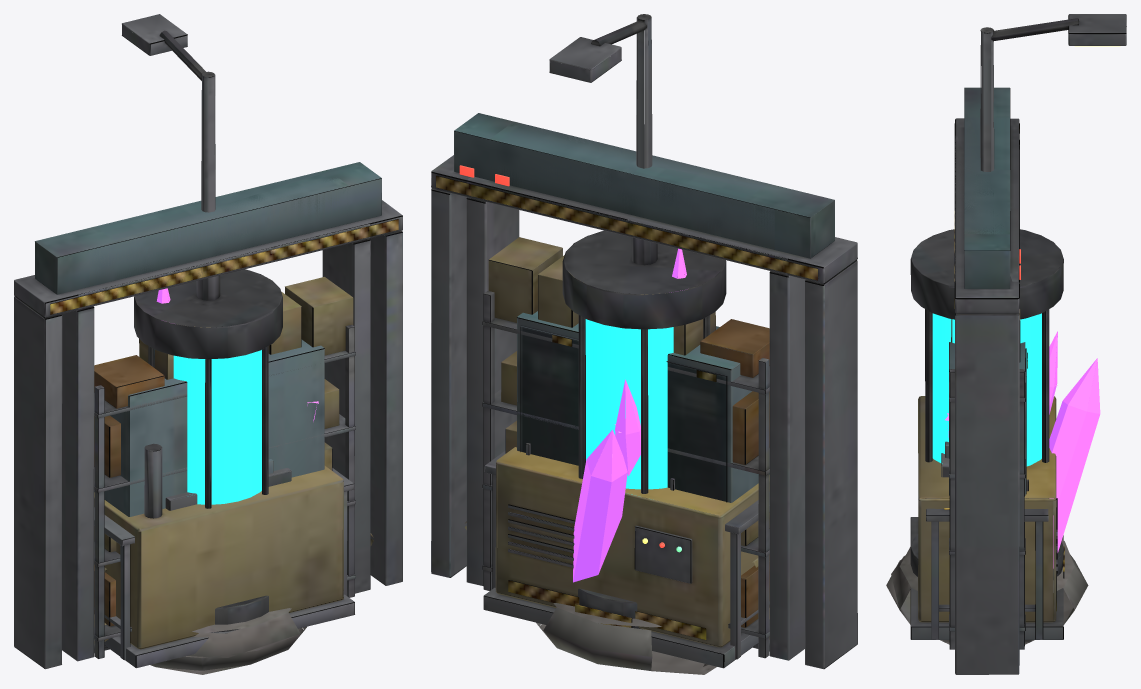
The model's file is env_props.glb.
3 renders of one model, left to right at view 1: azimuth 30°, elevation 25°; view 2: azimuth 150°, elevation 25°; view 3: azimuth 270°, elevation 25°, orthographic. The views are drawn at different scales.
Parts seen in each view (by area): view 1: DoorFrame25, DoorFrame2, Generator, Tank, Shelf, Lockers, Crystals, LampPost, LabTable, Console; view 2: DoorFrame25, DoorFrame2, Generator, Tank, Shelf, Lockers, Crystals, LampPost, LabTable; view 3: DoorFrame25, Tank, Generator, Crystals, DoorFrame2, LampPost, Shelf, LabTable, Lockers.
Part boxes in pixels (box(x1,y1,x2,y2)): DoorFrame25: box(14, 162, 402, 669); DoorFrame2: box(61, 170, 370, 661); Generator: box(94, 443, 354, 668); Tank: box(134, 269, 282, 632); Shelf: box(93, 277, 355, 658); Lockers: box(94, 339, 324, 516); Crystals: box(150, 288, 318, 674); LampPost: box(122, 14, 215, 327); LabTable: box(94, 459, 353, 660); Console: box(165, 468, 291, 510); DoorFrame25: box(431, 113, 857, 669); DoorFrame2: box(466, 122, 805, 660); Generator: box(483, 447, 769, 668); Tank: box(562, 230, 726, 629); Shelf: box(482, 237, 769, 658); Lockers: box(517, 311, 769, 502); Crystals: box(536, 248, 716, 674); LampPost: box(549, 14, 652, 294); LabTable: box(484, 450, 769, 659); DoorFrame25: box(954, 87, 1020, 674); Tank: box(910, 229, 1064, 579); Generator: box(910, 396, 1063, 639); Crystals: box(886, 331, 1100, 644); DoorFrame2: box(954, 104, 1020, 314); LampPost: box(980, 14, 1126, 171); Shelf: box(949, 309, 1025, 649); LabTable: box(926, 441, 1048, 639); Lockers: box(949, 342, 1028, 498).
Size of the model in its own units: 2.78 by 4.31 by 1.57.
Materials: 7 (1 with a texture image).
